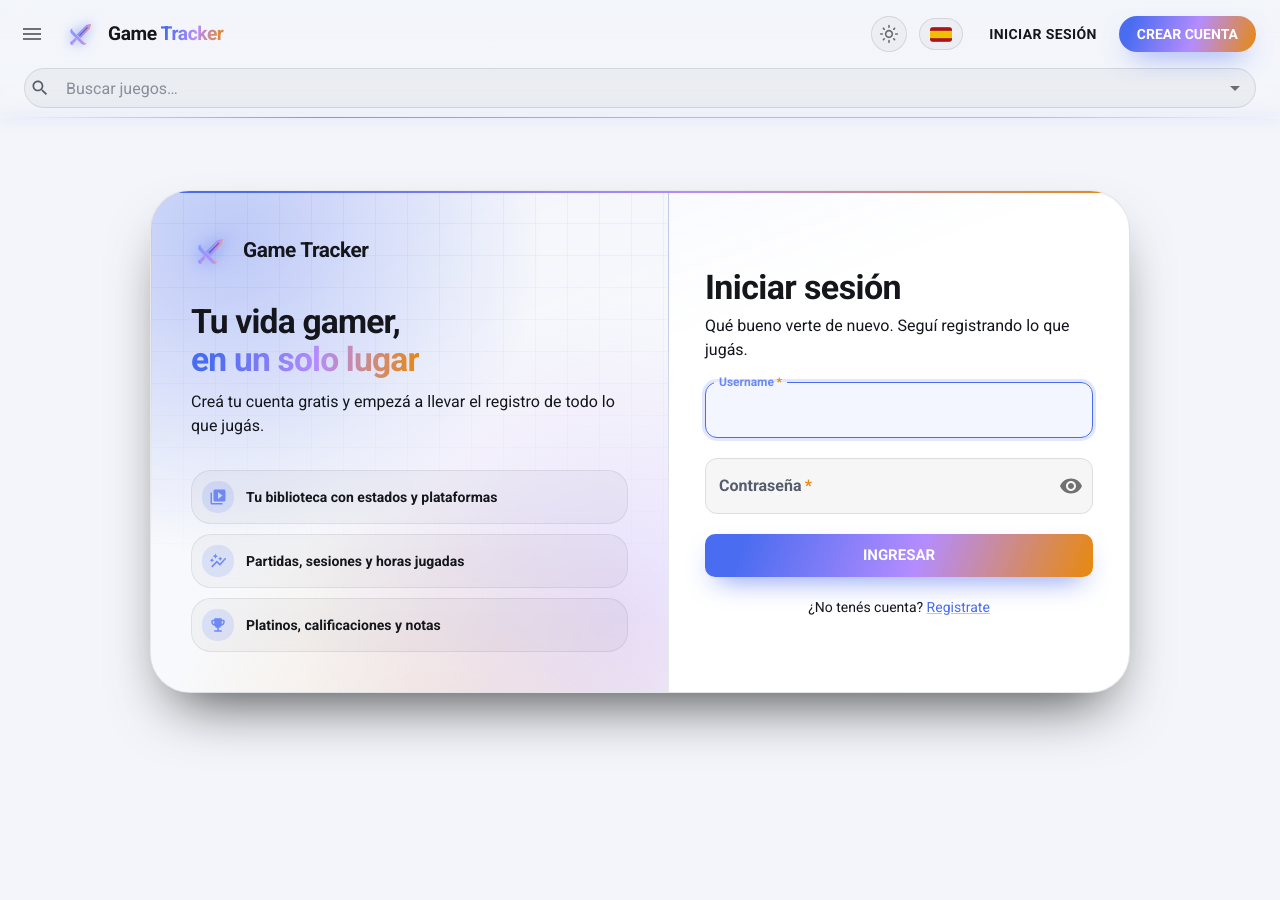
Test: authentication flow › login of an unverified account › explains it and leads to the verification screen without a session
This screenshot has width=1280, height=900.
Expected: the heading "Iniciar sesión" is shown, 705,266 -> 901,306
Type "new_player" into the field labelled "Username *" at [899, 410], box 705,382 -> 1093,438
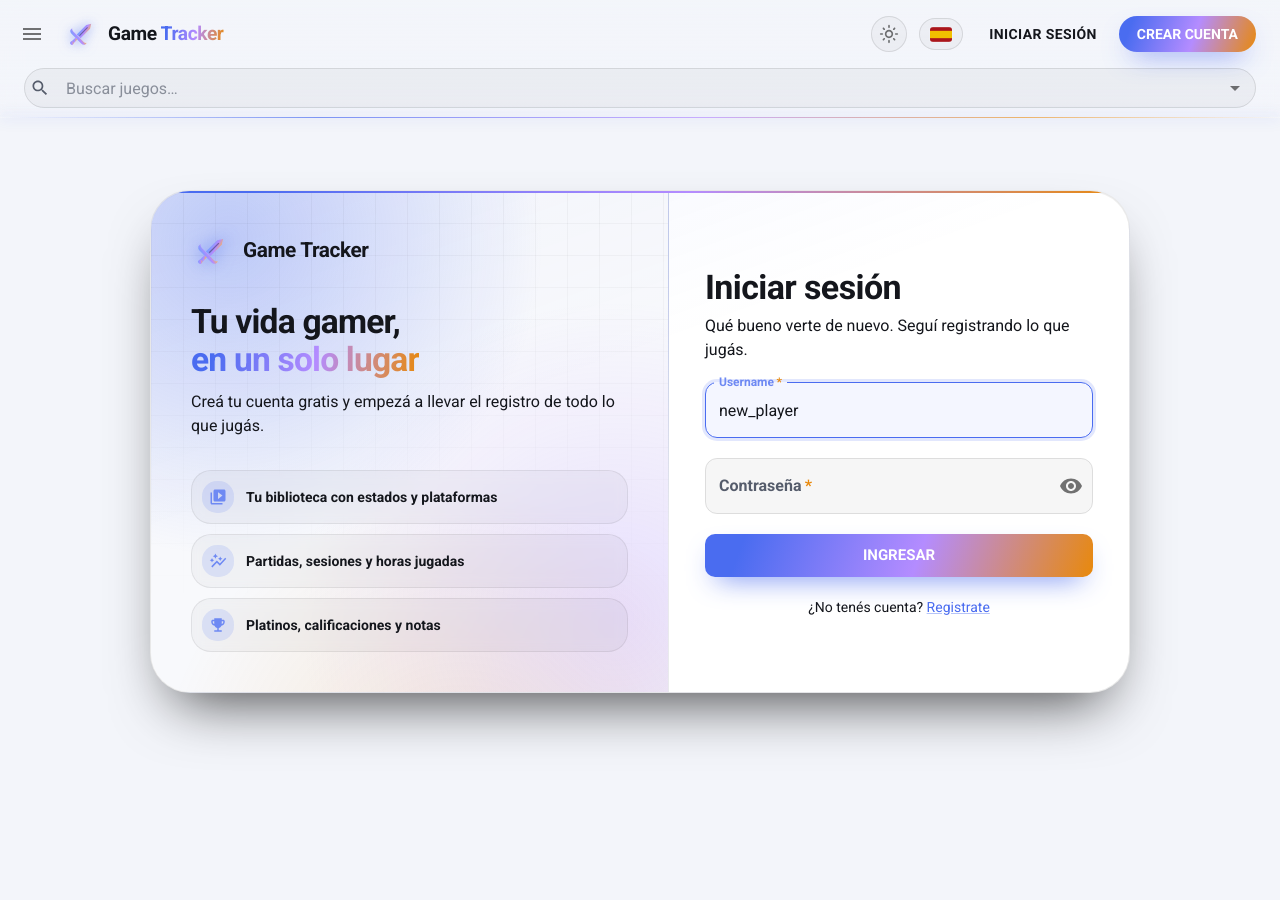
Type "super-secret-1" into the password field labelled "Contraseña *" at [874, 486], box 705,458 -> 1043,514
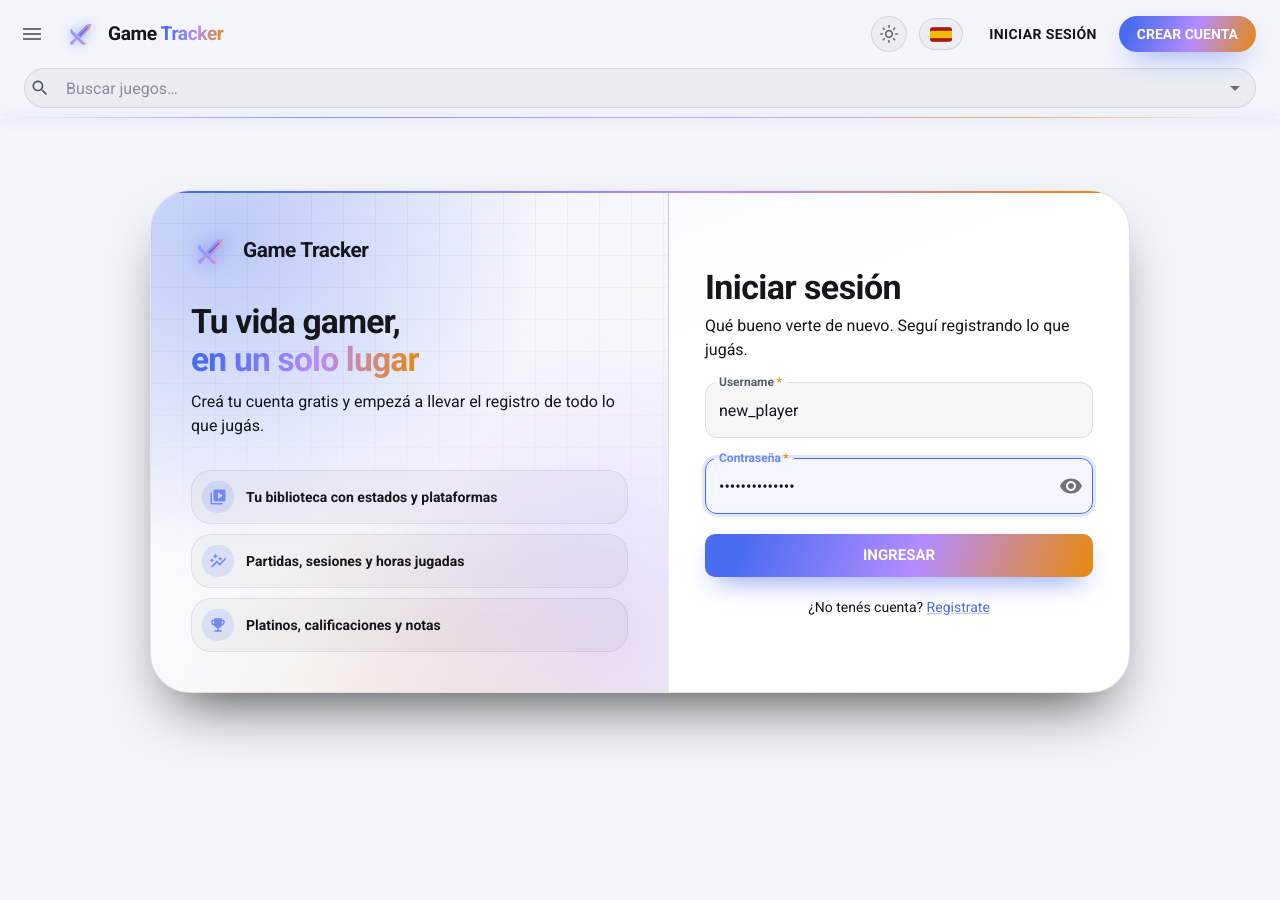
Click the button "Ingresar" at [899, 556], box 705,534 -> 1093,577
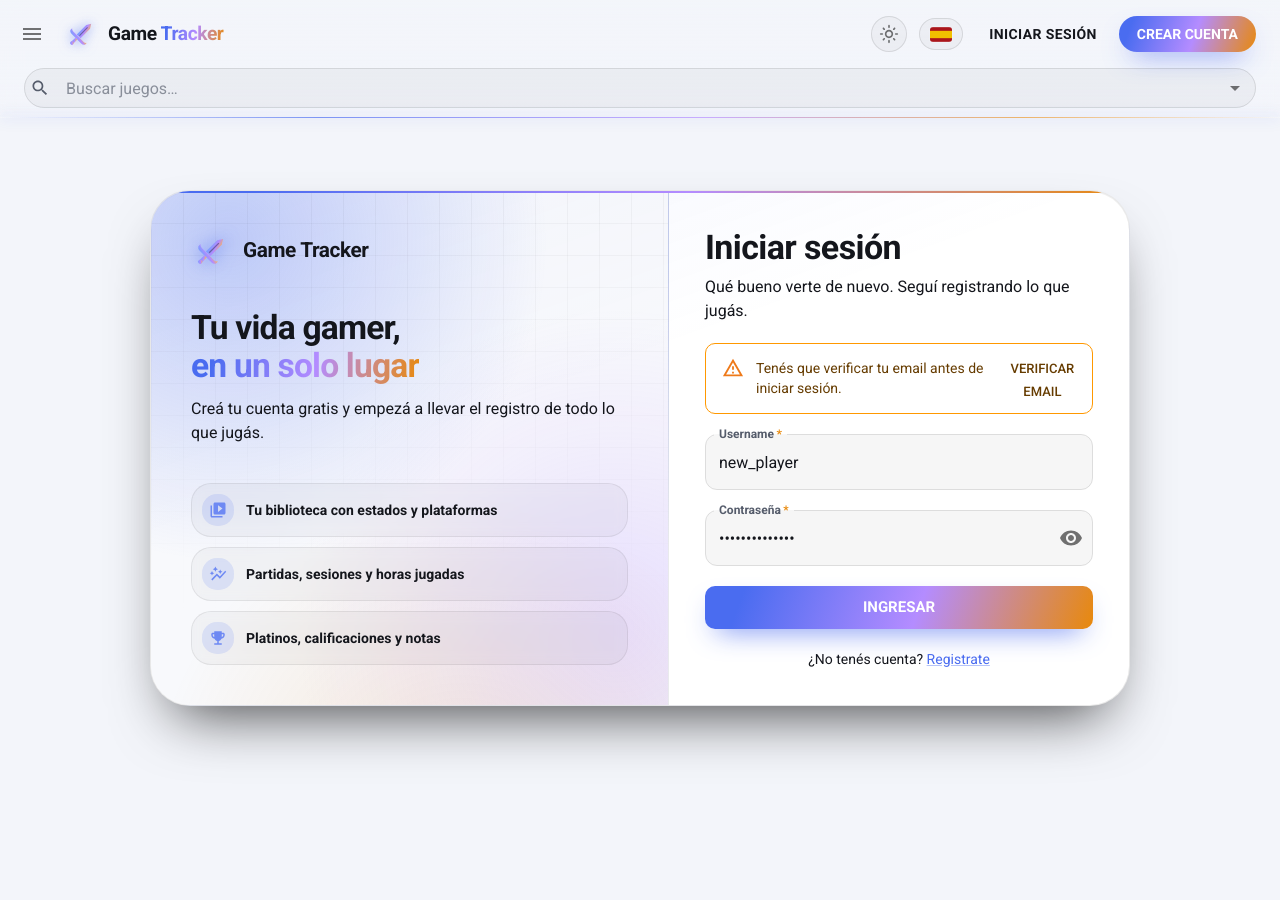
Expected: the text "Tenés que verificar tu email antes de iniciar sesión." is shown, 756,350 -> 985,408
Click the button "Verificar email" at [1042, 381], box 1001,354 -> 1084,408
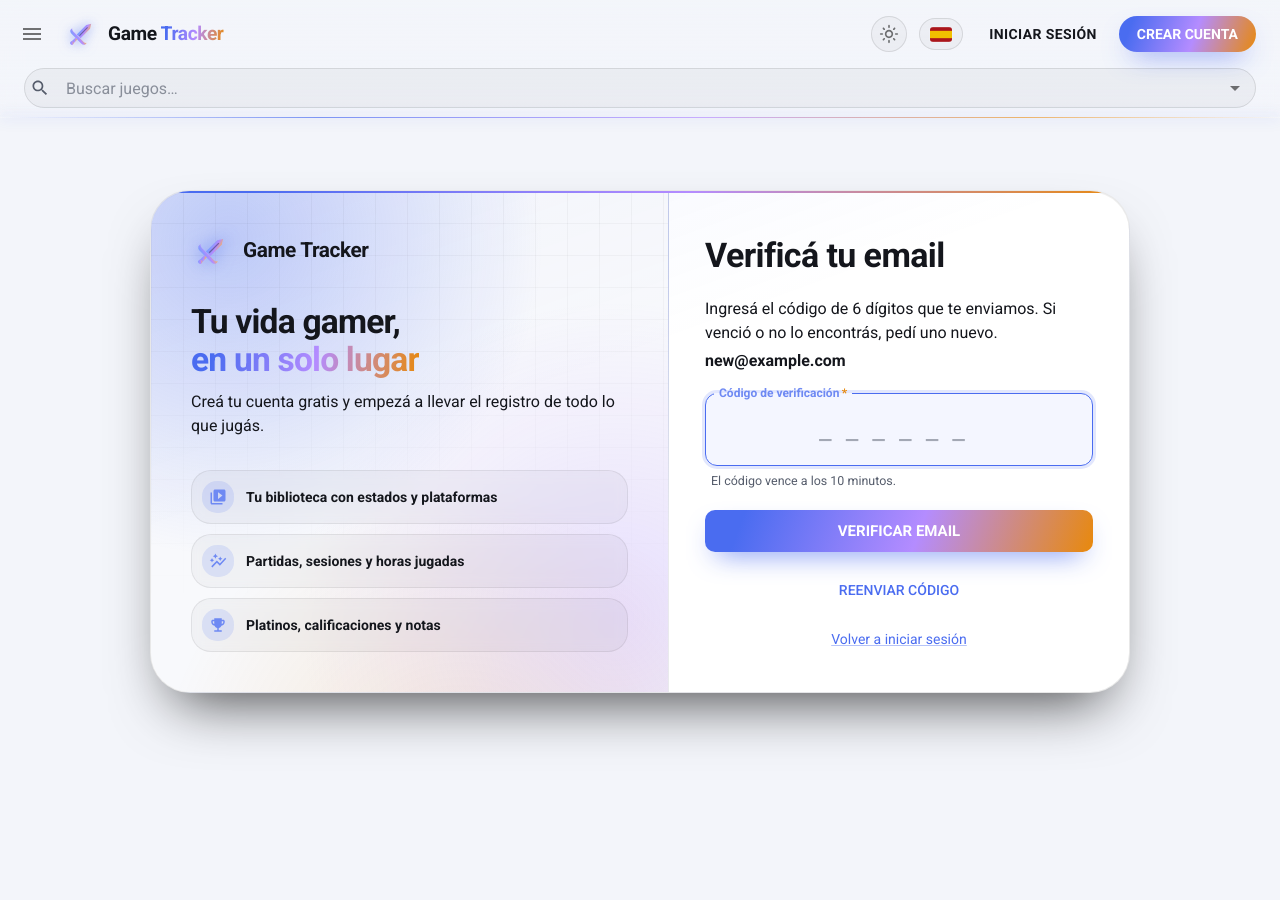
Expected: the text "new@example.com" is shown, 705,351 -> 846,370
